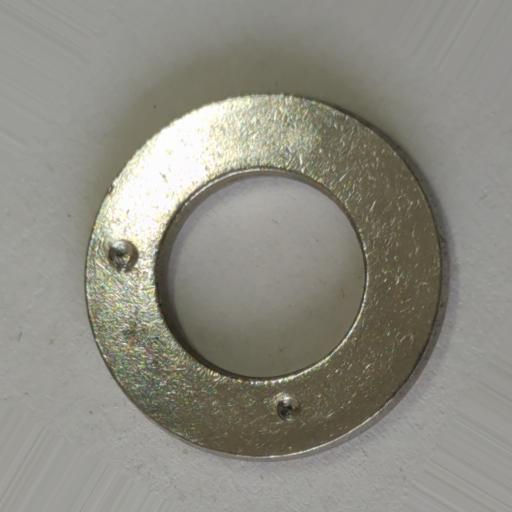circular_cavity: (107, 238, 139, 271), (276, 394, 302, 421)
